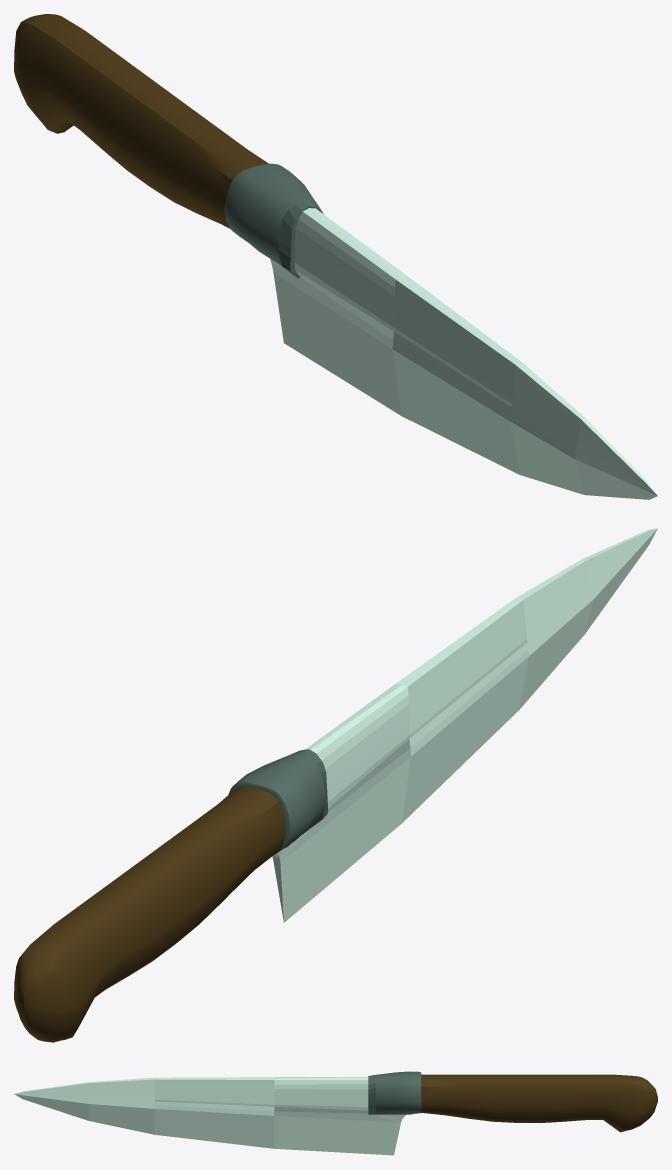
The model's file is knife.fbx.
3 views of the same model, one above another, from view 1: azimuth 30°, elevation 25°; view 2: azimuth 150°, elevation 25°; view 3: azimuth 270°, elevation 25° (orthographic). The views are drawn at different scales.
Parts seen in each view (by area): view 1: Cube; view 2: Cube; view 3: Cube.
Part boxes in pixels (x1,y1,x2,y2): Cube: [14, 14, 657, 499]; Cube: [14, 528, 657, 1042]; Cube: [14, 1071, 657, 1155].
Bounding box in the file's own units: 57.92 × 126 × 910.
